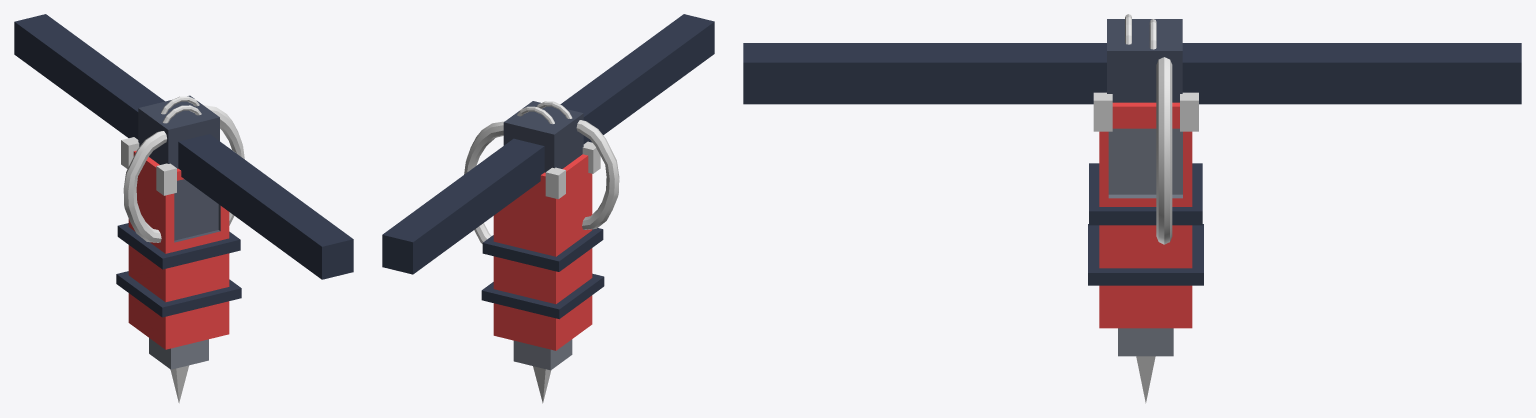
File: Mach_4Robot.fbx
The picture shows the model from 3 angles, left to right: view 1: azimuth 30°, elevation 25°; view 2: azimuth 150°, elevation 25°; view 3: azimuth 270°, elevation 25°; orthographic projection. The views are drawn at different scales.
Visible parts, largest first — view 1: Machn_4Robot; view 2: Machn_4Robot; view 3: Machn_4Robot.
Boxes of the visible parts, bbox=[...] form: Machn_4Robot: bbox=[14, 14, 353, 403]; Machn_4Robot: bbox=[382, 14, 714, 403]; Machn_4Robot: bbox=[743, 14, 1521, 403].
Bounding box in the file's own units: 61.37 × 128 × 235.
